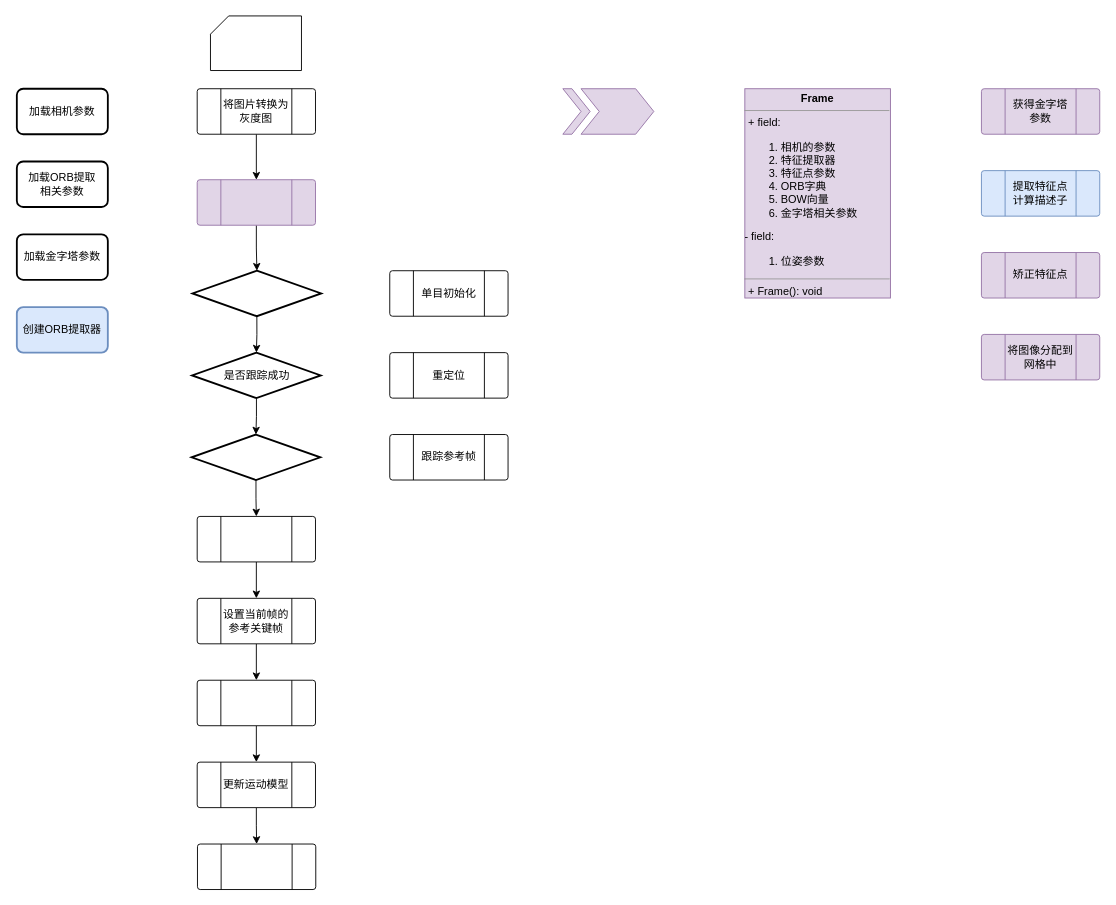
Image size: 1116x905. Some labels were removed from this diagram. Each missing label, with the centre of its shape:
Gra: [255,43]
判断是否 插入关键帧: [256,866]
是否完成 初始化: [256,293]
构建Frame: [255,202]
根据跟踪模型进行跟踪: [255,539]
跟踪局部地图: [255,702]
运动模型 是否为空: [255,456]
